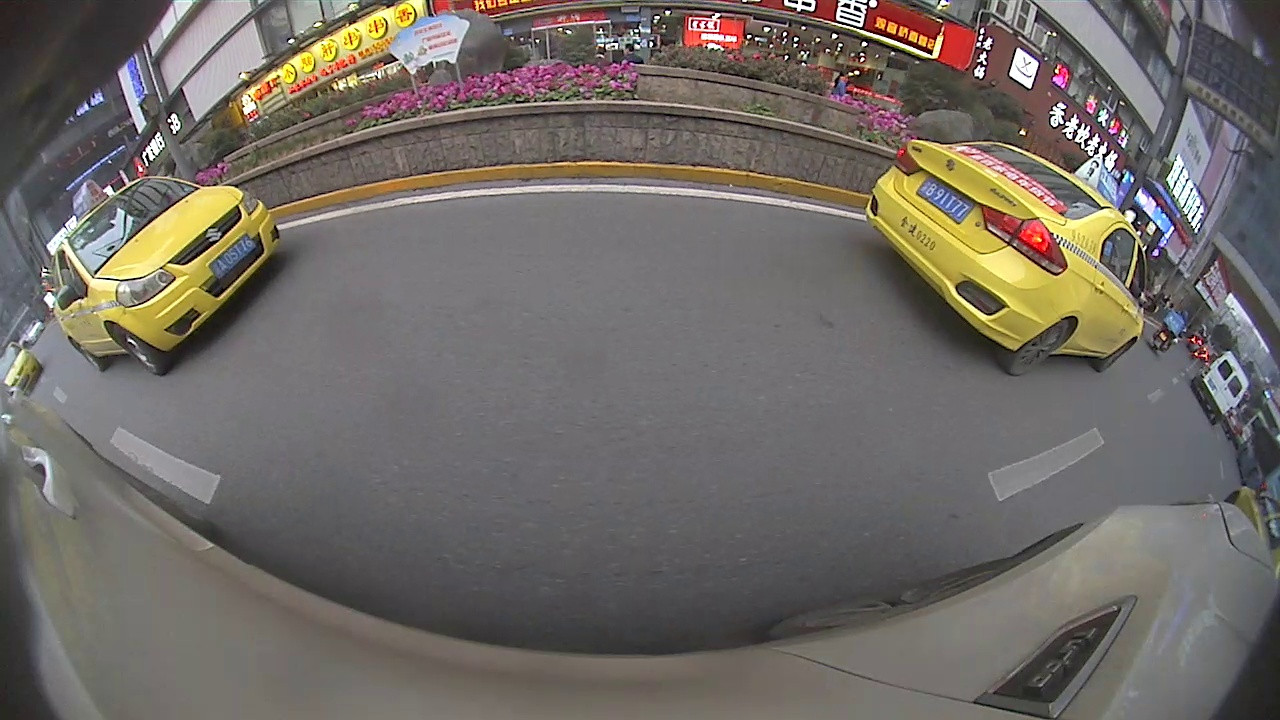car: (865, 139, 1161, 373), (50, 174, 282, 375), (1190, 353, 1252, 426)
front: (110, 325, 162, 380), (1097, 340, 1137, 375)
rear: (1002, 318, 1076, 377), (68, 339, 107, 374)
